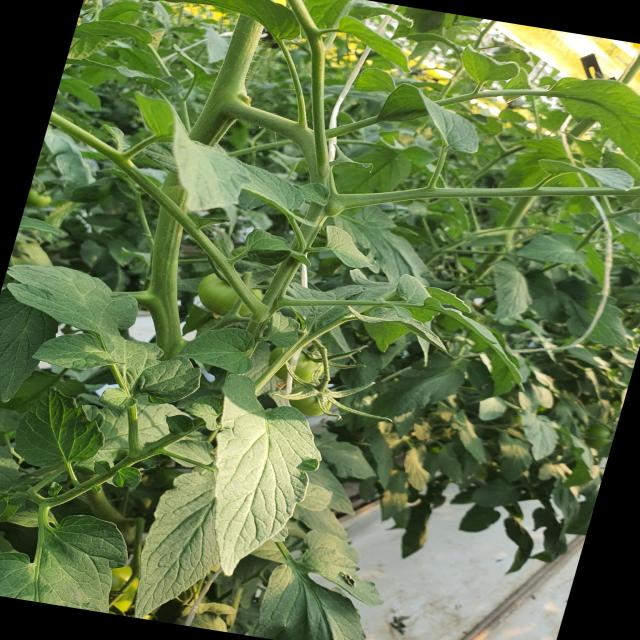Healthy Leaf: (202, 379, 339, 580)
